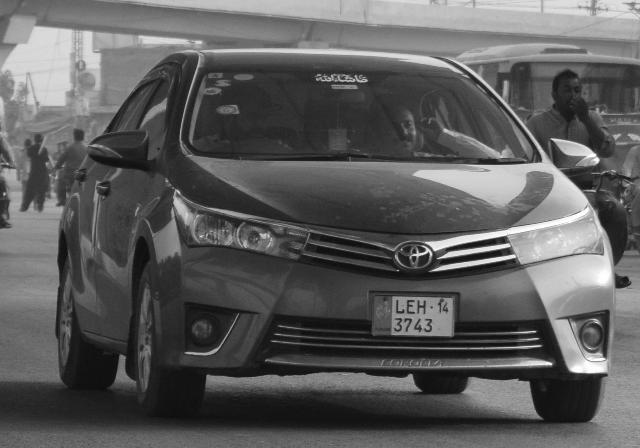Number: (392, 300, 448, 334)
